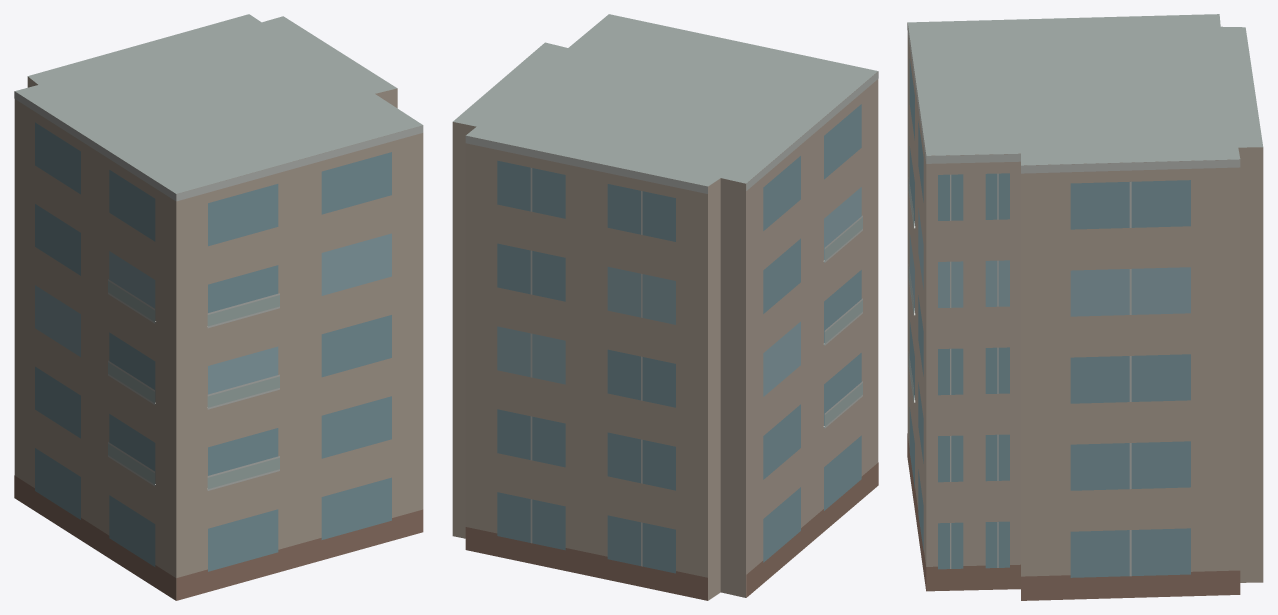
File: survey-upis-32611813.glb
The picture shows the model from 3 angles, left to right: view 1: azimuth 30°, elevation 25°; view 2: azimuth 150°, elevation 25°; view 3: azimuth 270°, elevation 25°; orthographic projection. The views are drawn at different scales.
Visible parts, largest first — view 1: survey-upis-32611813.tmp; view 2: survey-upis-32611813.tmp; view 3: survey-upis-32611813.tmp.
Part boxes in pixels (x1=…): survey-upis-32611813.tmp: x1=14, y1=14, x2=423, y2=600; survey-upis-32611813.tmp: x1=452, y1=14, x2=878, y2=600; survey-upis-32611813.tmp: x1=907, y1=14, x2=1263, y2=600.
Size of the model in its own units: 9.86 by 13.2 by 9.78.
